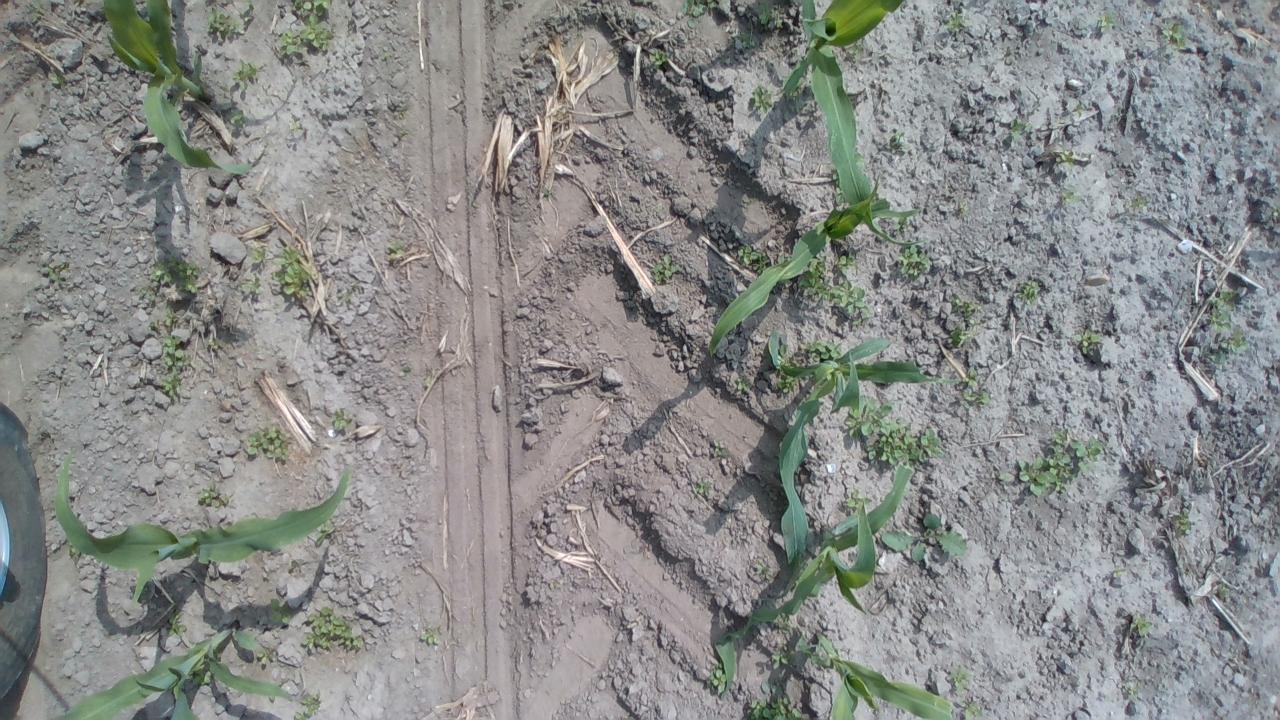Maize: (715, 460, 913, 700), (52, 448, 353, 603), (766, 330, 958, 572), (710, 178, 924, 351), (783, 0, 930, 251), (102, 0, 255, 178), (48, 621, 294, 720), (789, 626, 955, 720)
Weeds: (846, 395, 947, 470), (1016, 427, 1104, 497), (799, 253, 874, 326), (881, 514, 968, 562), (302, 606, 364, 652), (155, 334, 194, 400), (282, 13, 334, 57), (271, 245, 313, 297), (150, 256, 202, 297), (747, 682, 802, 720), (206, 0, 254, 39), (246, 424, 288, 462), (960, 368, 994, 409), (898, 244, 931, 284), (1206, 288, 1236, 332), (257, 596, 294, 624), (737, 244, 770, 275), (950, 294, 981, 326), (754, 0, 784, 32), (198, 480, 228, 512), (231, 58, 260, 91), (750, 79, 775, 114), (652, 254, 681, 284), (948, 665, 976, 695), (293, 691, 321, 720), (808, 338, 844, 360), (1016, 278, 1042, 306), (1220, 328, 1248, 354), (704, 662, 726, 695), (681, 0, 706, 29), (1162, 22, 1188, 49), (42, 260, 68, 286), (1074, 329, 1100, 355), (884, 130, 911, 154), (330, 408, 354, 433), (290, 0, 330, 15), (846, 487, 872, 510), (779, 344, 801, 369), (166, 610, 187, 636), (647, 46, 668, 71), (946, 11, 968, 34), (776, 371, 799, 393), (190, 662, 212, 685), (754, 557, 774, 582), (1055, 144, 1075, 168), (960, 699, 982, 720), (241, 274, 264, 294), (1173, 510, 1192, 534), (788, 78, 806, 103), (950, 327, 971, 348), (1008, 118, 1030, 138), (891, 214, 913, 234), (1130, 616, 1152, 636), (316, 519, 332, 546), (1098, 10, 1118, 30), (256, 646, 278, 664), (136, 286, 156, 305), (736, 376, 754, 396), (30, 0, 46, 22), (228, 109, 246, 128), (1061, 190, 1079, 209), (421, 628, 440, 646), (1129, 193, 1150, 209), (693, 479, 712, 496), (162, 303, 176, 326), (740, 30, 757, 48), (386, 239, 402, 258), (848, 38, 864, 56), (542, 184, 560, 200), (251, 244, 266, 262), (49, 70, 64, 88), (770, 654, 788, 669), (712, 440, 727, 456), (778, 611, 791, 629), (67, 540, 80, 558), (378, 48, 392, 64), (1072, 102, 1086, 117), (289, 118, 302, 134), (1218, 582, 1228, 598), (208, 338, 220, 350), (958, 199, 968, 212), (398, 126, 409, 137), (1272, 204, 1280, 218), (706, 0, 718, 9), (1126, 686, 1136, 696), (854, 152, 864, 162), (1114, 567, 1122, 577), (153, 318, 160, 328)
